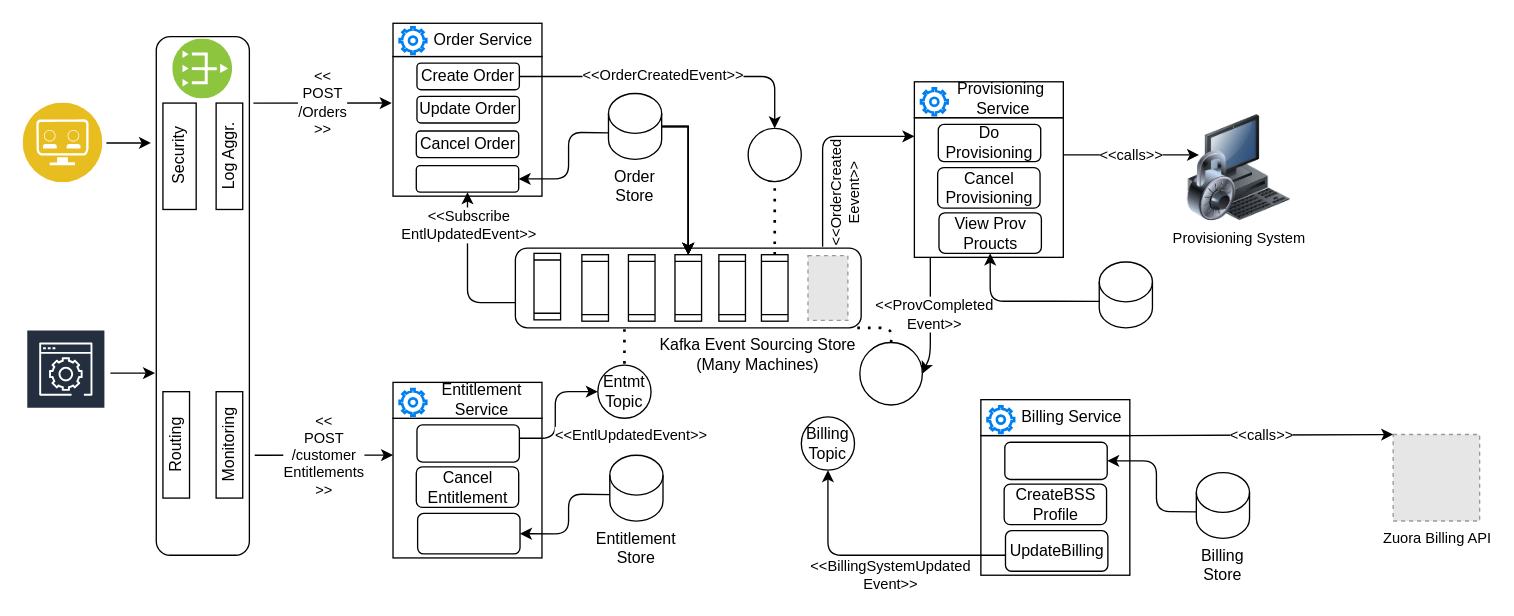
This 1514x616 diagram has some shape labels left out. Grey dashed boxes stand in for pictures. Here are the shapes that lost their labels. From the top down, the box of each, then its label:
(23, 102, 102, 182): SD Portal
(747, 127, 801, 182): Orders Topic
(415, 164, 519, 192): View Orders
(155, 35, 249, 555): SDP API Gateway
(1098, 261, 1152, 328): Provisioning Store
(859, 341, 922, 405): Prov Topic
(25, 328, 106, 462): Console
(416, 424, 519, 462): Update Entitlement
(1003, 441, 1107, 479): Generate Invoice
(416, 512, 520, 554): View Entitlement
